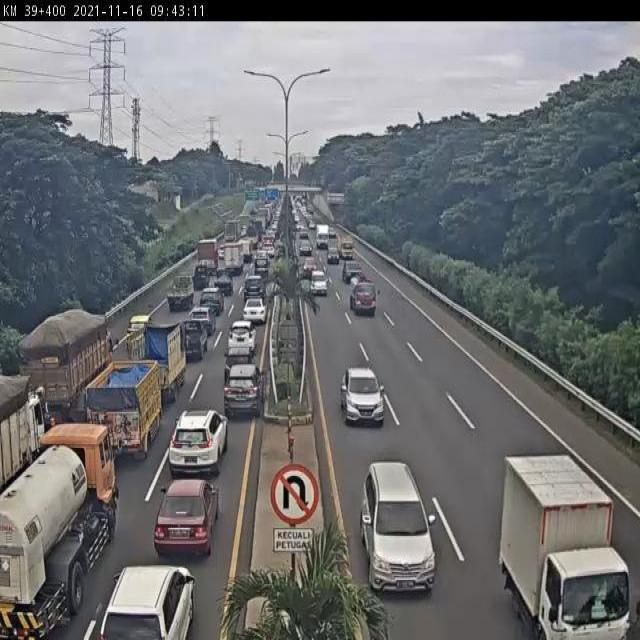car: (362, 461, 435, 592), (98, 565, 194, 640), (156, 478, 220, 558), (171, 409, 229, 476), (342, 367, 384, 422), (225, 365, 266, 420), (182, 319, 208, 361), (227, 319, 258, 352), (224, 346, 253, 378), (189, 306, 217, 334), (128, 315, 154, 344), (242, 297, 268, 323), (243, 274, 265, 302), (199, 288, 223, 313), (214, 268, 234, 295), (191, 265, 210, 291), (310, 269, 328, 295), (343, 260, 363, 283)
small truck: (503, 453, 633, 640), (88, 359, 163, 461), (127, 324, 186, 404), (349, 275, 377, 317), (167, 276, 197, 309)
truck-m-: (0, 421, 117, 640), (19, 309, 117, 419), (0, 378, 45, 498)
